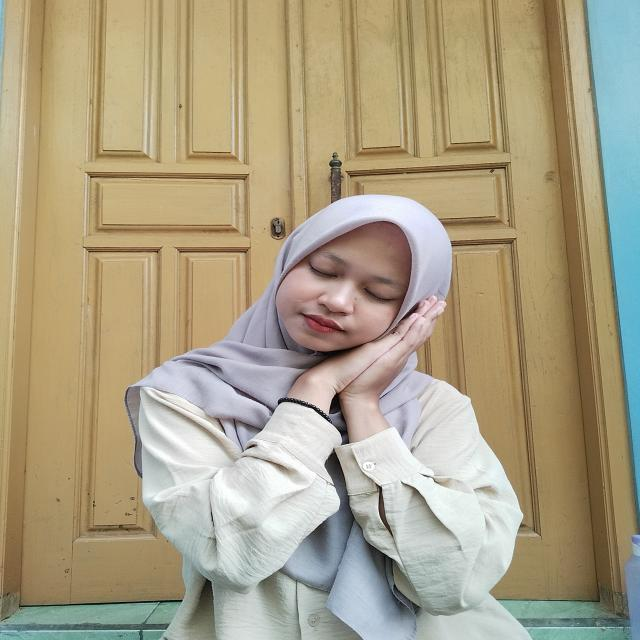tidur: (266, 290, 461, 448)
